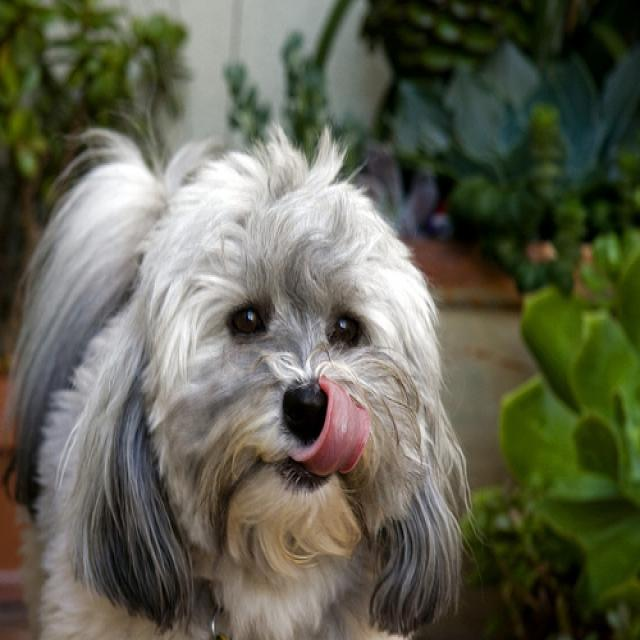dog-havanese: (5, 147, 471, 637)
